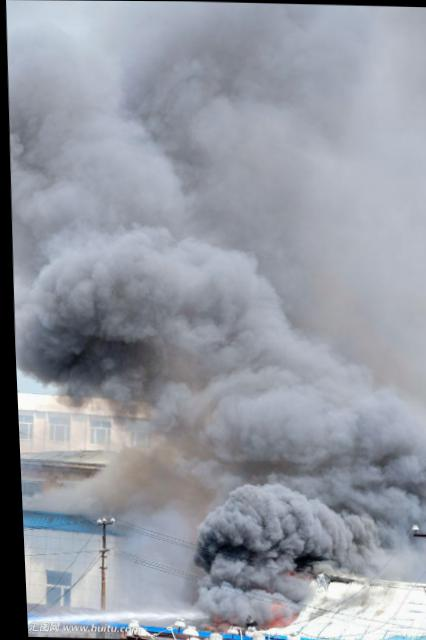smoke: (147, 1, 423, 258), (3, 5, 162, 409), (150, 256, 330, 470), (323, 411, 422, 570), (186, 478, 325, 571), (178, 574, 295, 626)
